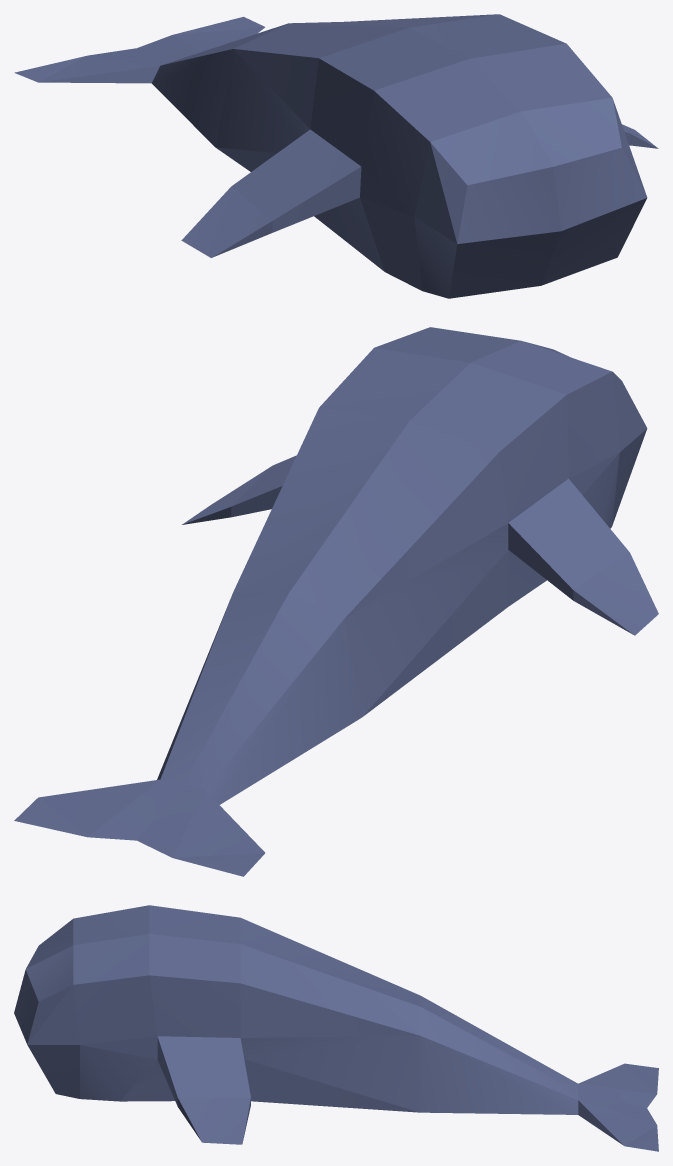
The model's file is whale_ani.FBX.
The picture shows the model from 3 angles, top to bottom: view 1: azimuth 30°, elevation 25°; view 2: azimuth 150°, elevation 25°; view 3: azimuth 270°, elevation 25°; orthographic projection. The views are drawn at different scales.
Parts seen in each view (by area): view 1: whale_ani; view 2: whale_ani; view 3: whale_ani.
Boxes of the visible parts, x1,y1,x2,y2 form: whale_ani: (14,14,658,298); whale_ani: (14,327,658,876); whale_ani: (14,905,658,1151).
Size of the model in its own units: 39.6 by 19.69 by 65.38.
